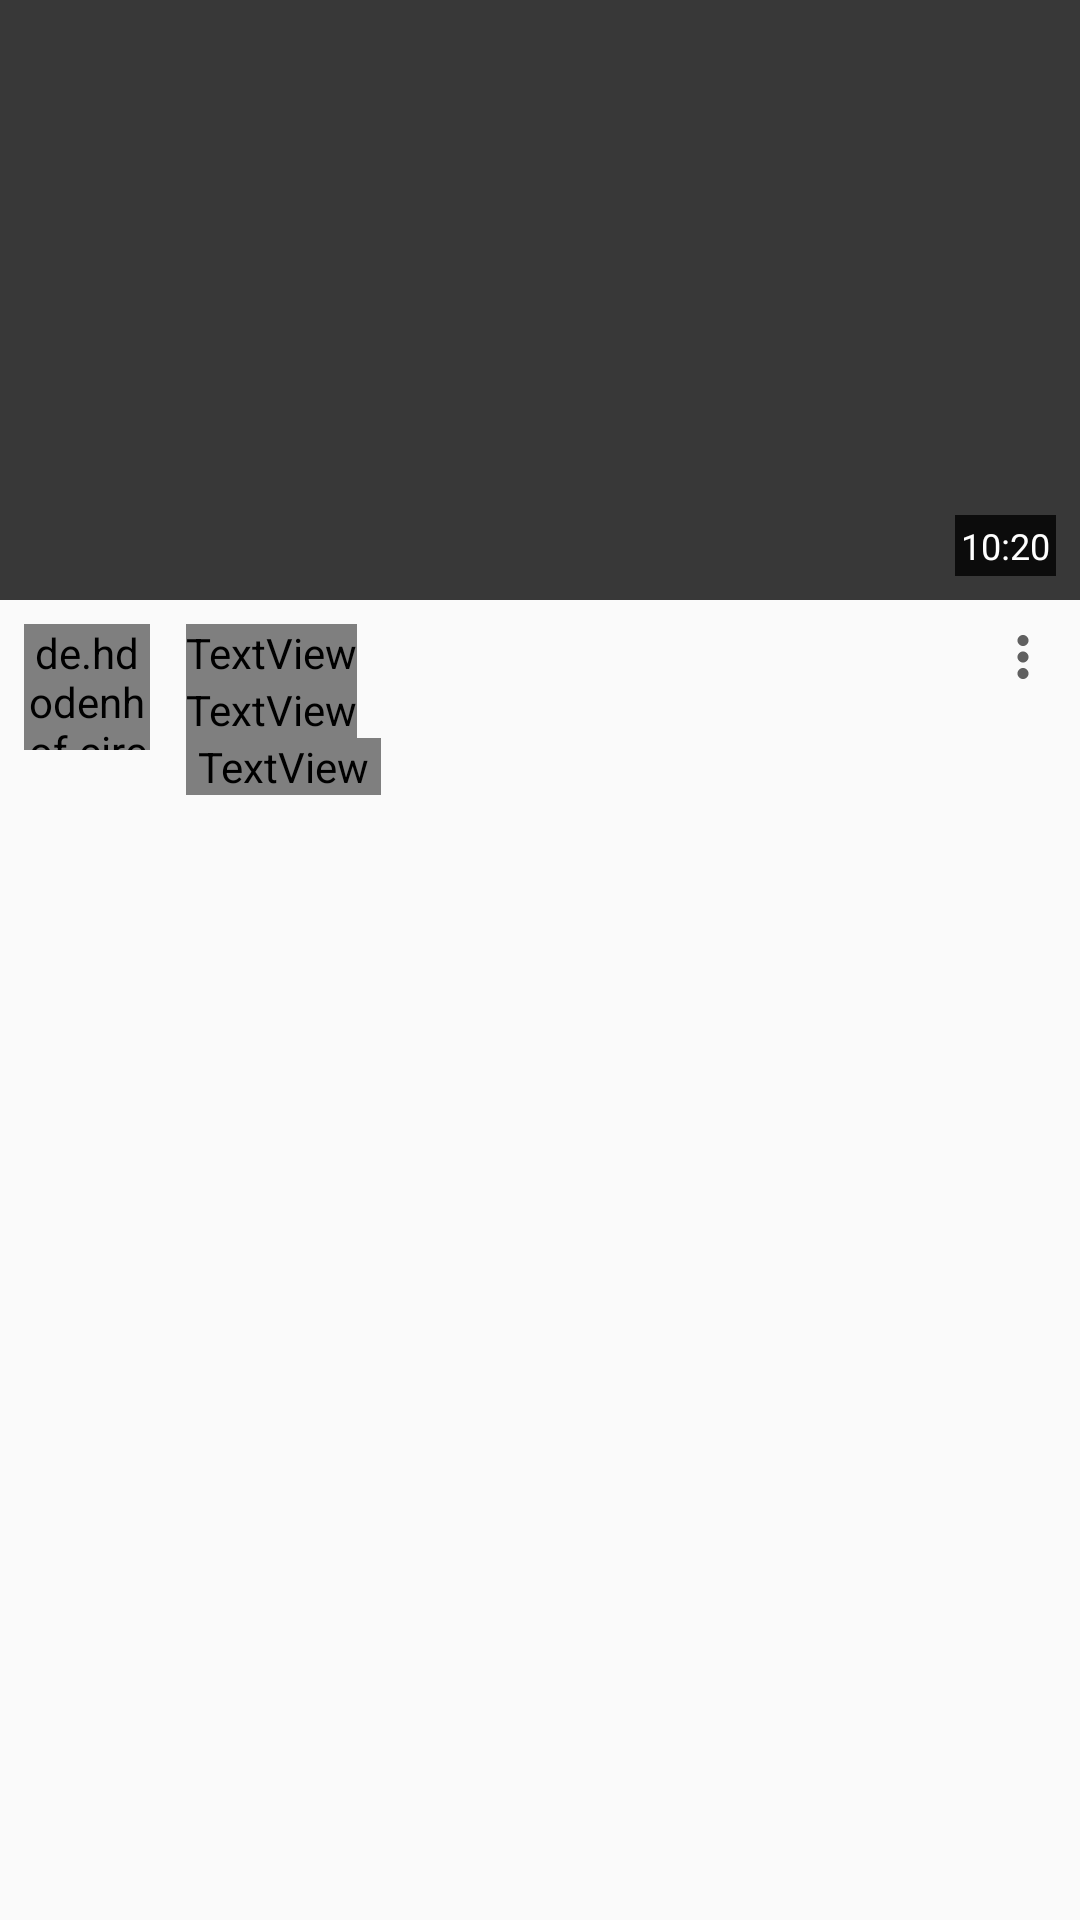

Named icons in this screenshot (1080w x 1920h) and their centers, point (x, y):
more vert: point (1023, 657)
